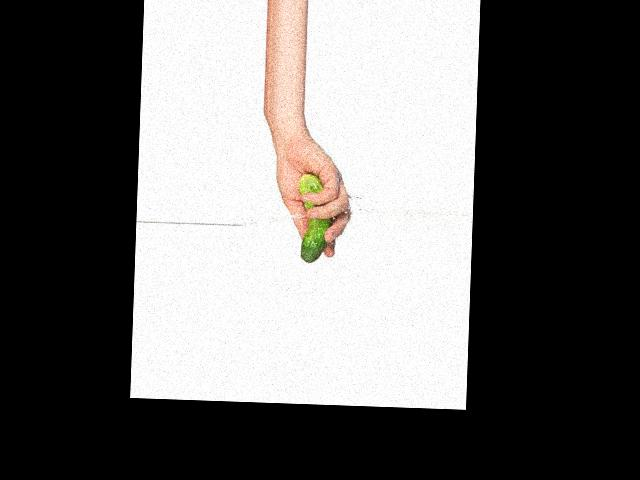cucumber: (297, 173, 332, 263)
